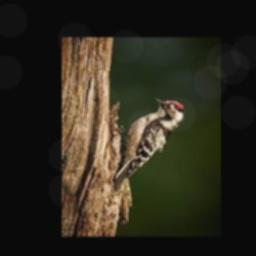Woodpecker: (115, 97, 186, 190)
